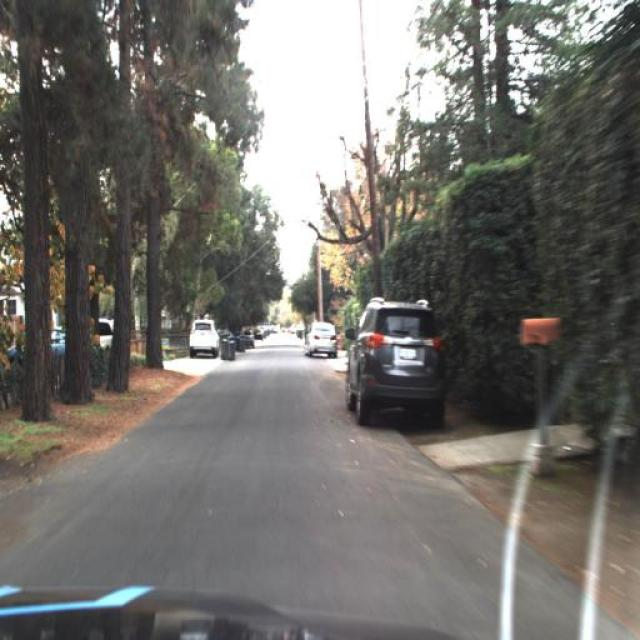car: (342, 295, 448, 430), (185, 312, 221, 361), (302, 323, 340, 361), (188, 322, 218, 359)
